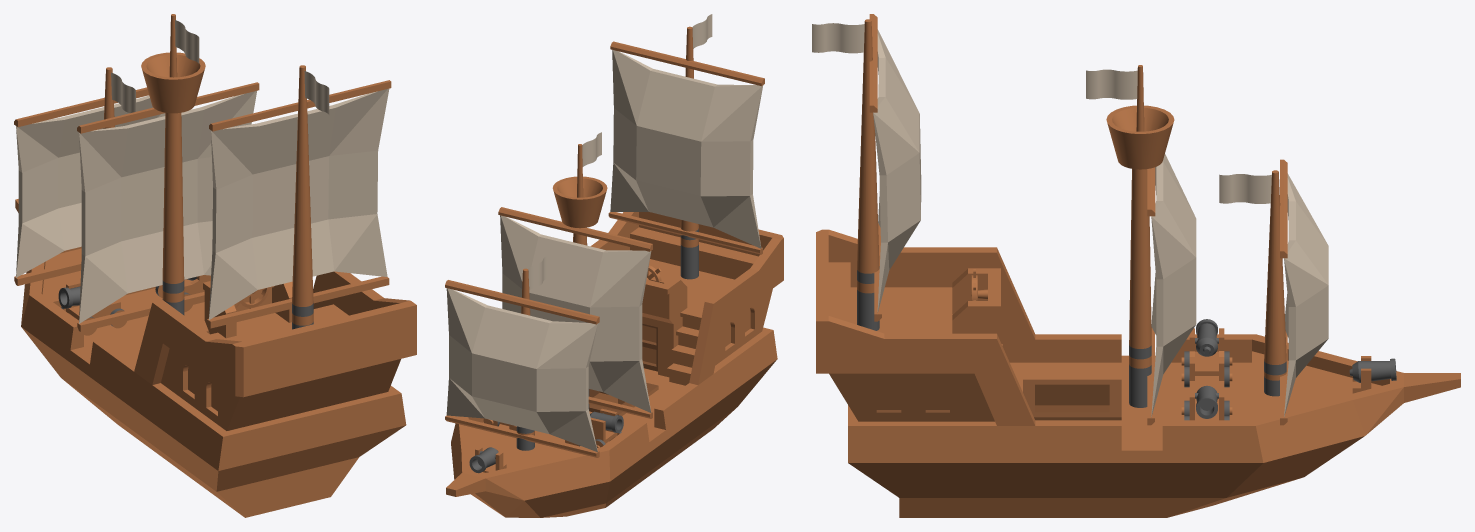
The model's file is ship2.obj.
3 views of the same model, side by side, from view 1: azimuth 30°, elevation 25°; view 2: azimuth 150°, elevation 25°; view 3: azimuth 270°, elevation 25° (orthographic). The views are drawn at different scales.
Parts seen in each view (by area): view 1: ship_light_8angles, sail_back_1, sail_middle_1, sail_front_1, cannon_left_1; view 2: ship_light_8angles, sail_back_1, sail_front_1, sail_middle_1, cannon_front_1.001, cannon_left_1, cannon_left_1.001; view 3: ship_light_8angles, sail_back_1, sail_middle_1, sail_front_1, cannon_left_1, cannon_front_1.001, cannon_left_1.001.
Part boxes in pixels (x1,y1,x2,y2): ship_light_8angles: (15, 14, 416, 517); sail_back_1: (207, 80, 391, 328); sail_middle_1: (77, 82, 259, 331); sail_front_1: (14, 87, 165, 285); cannon_left_1: (66, 281, 120, 320); ship_light_8angles: (446, 14, 783, 517); sail_back_1: (608, 41, 764, 254); sail_front_1: (445, 280, 599, 457); sail_middle_1: (498, 207, 652, 418); cannon_front_1.001: (469, 447, 498, 473); cannon_left_1: (590, 408, 617, 443); cannon_left_1.001: (590, 411, 623, 432); ship_light_8angles: (812, 19, 1460, 517); sail_back_1: (869, 14, 921, 321); sail_middle_1: (1147, 154, 1196, 425); sail_front_1: (1280, 159, 1328, 425); cannon_left_1: (1189, 328, 1224, 380); cannon_front_1.001: (1349, 358, 1396, 382); cannon_left_1.001: (1196, 319, 1217, 356).
Bounding box in the file's own units: 28.5 × 65.46 × 80.98.
